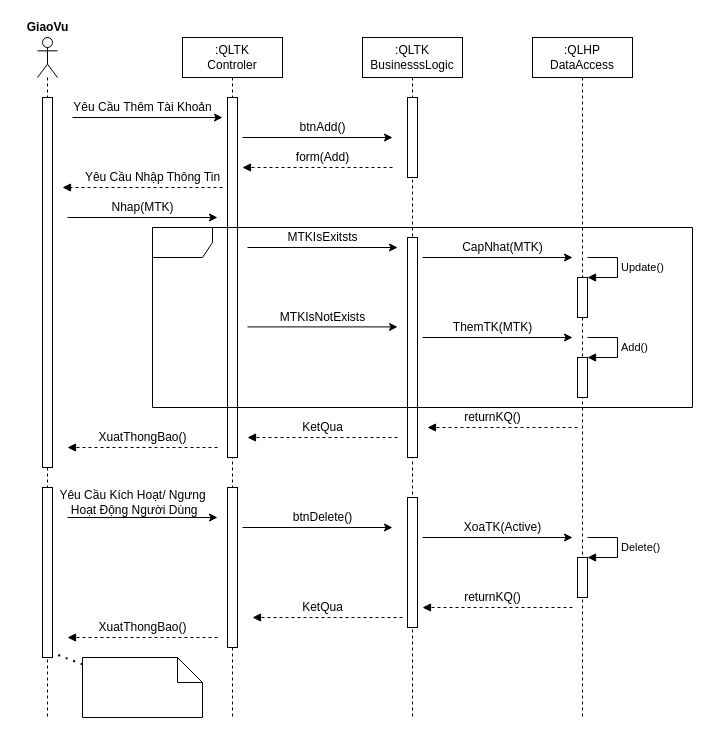
The diagram is 710 pixels wide and 735 high, and some of its shapes have lost their labels. The shapes that lost their labels are listed below. From the top down, each one's centre as x and y in pixels, then its label:
(422,317): Điều kiện
(142,687): Extend with U1,U2
